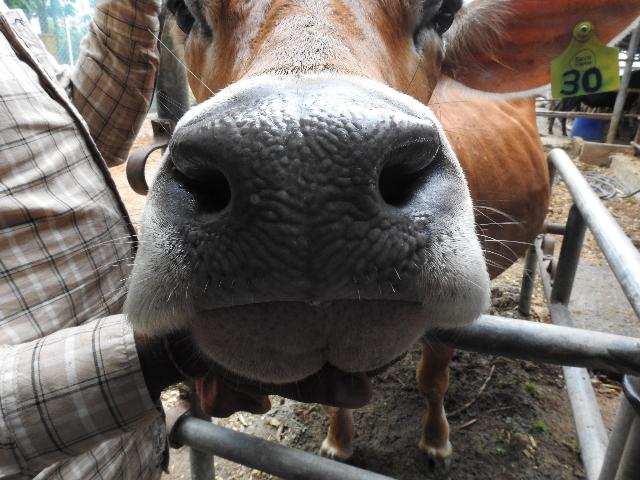Muzzle: (217, 115, 399, 292)
